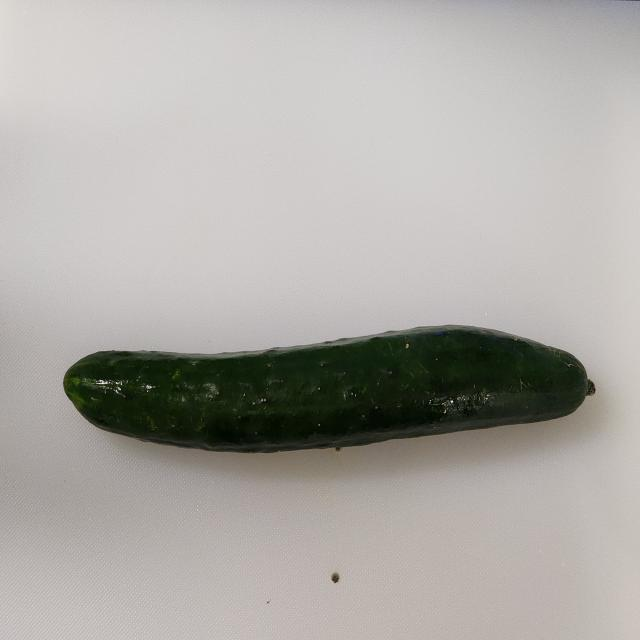cucumber: (62, 323, 596, 453)
